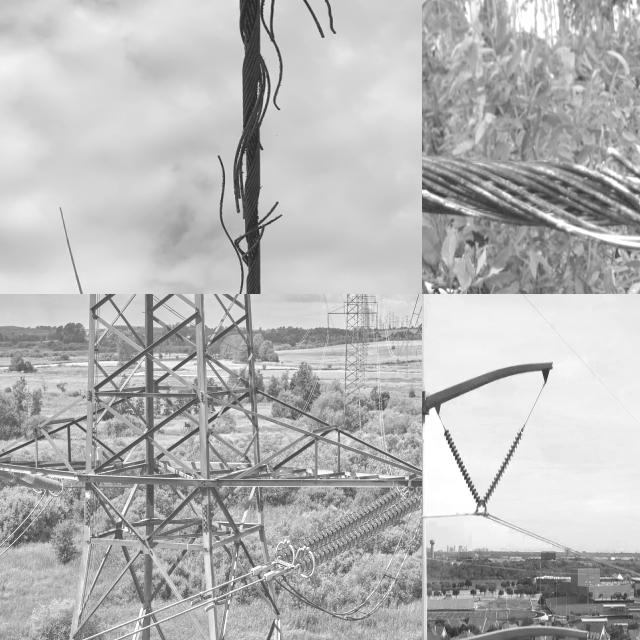杆塔: (48, 294, 321, 640), (336, 294, 372, 398)
正常电缆: (73, 555, 281, 640), (0, 491, 60, 562)
正常绝缘子: (265, 478, 422, 577), (472, 415, 531, 523), (437, 417, 488, 516), (0, 455, 72, 507)
电缆破损: (155, 0, 352, 294), (422, 122, 640, 260)
